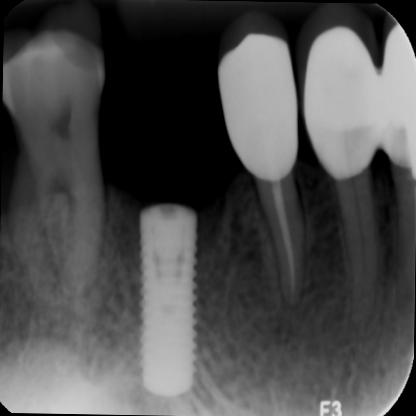ITI: (132, 198, 204, 399)
